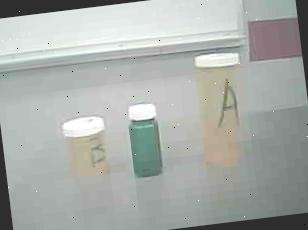Bottle A: (187, 39, 257, 174)
Bottle B: (57, 109, 119, 189)
Bottle C: (121, 98, 174, 182)
